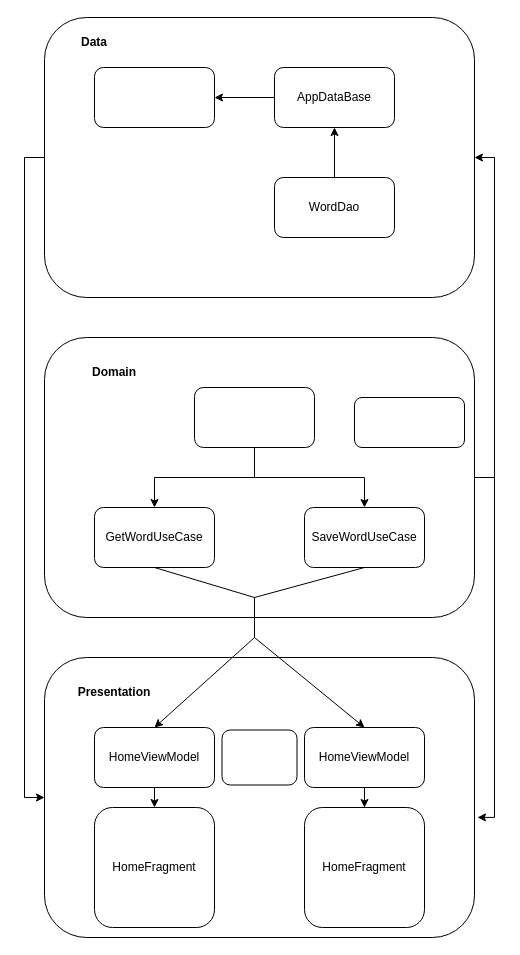
Some shapes in this 520 by 955 pixel diagram are drawn without their labels. The centre of each missing label's shape, as x and y in pixels:
"App" belongs at point 259,757.
"WordDomainModel" belongs at point 409,422.
"WordRepository" belongs at point 254,417.
"WordRepositoryImpl" belongs at point 154,97.
